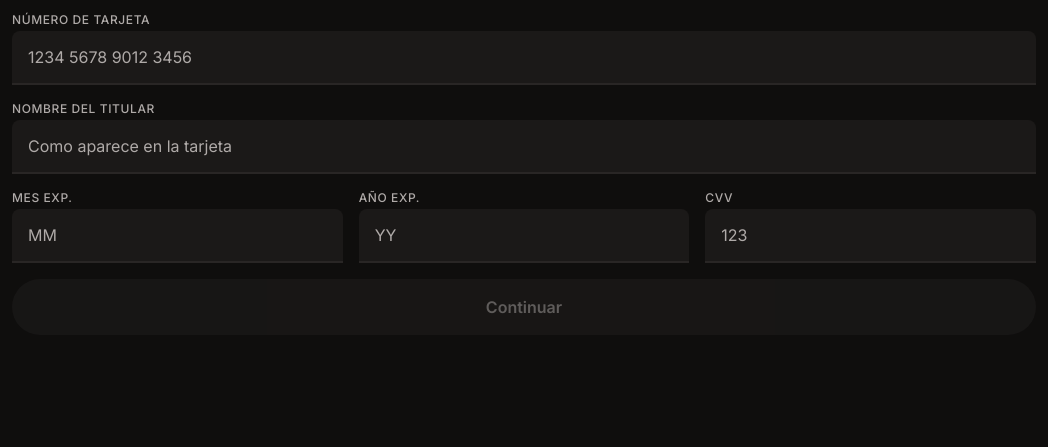
Test: CreditCardForm › shows validation errors with aria-invalid and role=alert
The width and height of the screenshot is (1048, 447).
Type "111" into the field labelled "Número de tarjeta". click: coordinates (524, 57)
box: x1=12 y1=31 x2=1036 y2=83
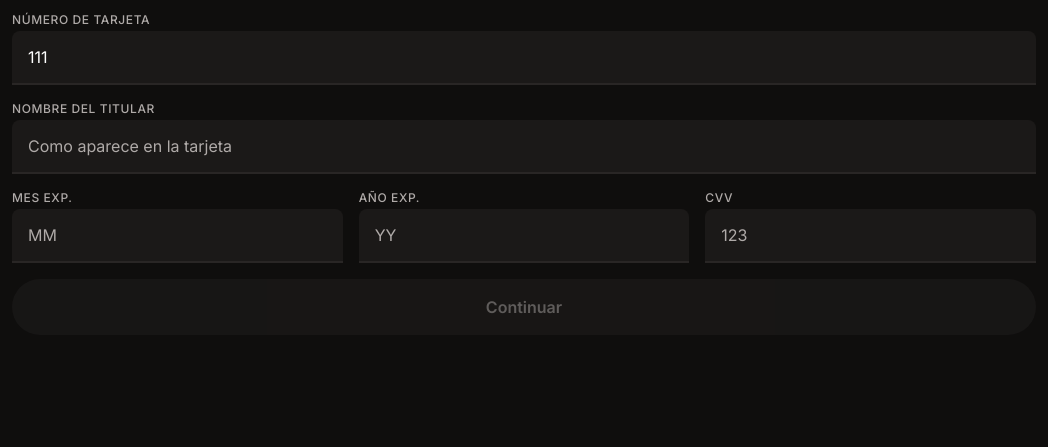
Leave the field labelled "Número de tarjeta", box x1=12 y1=31 x2=1036 y2=83
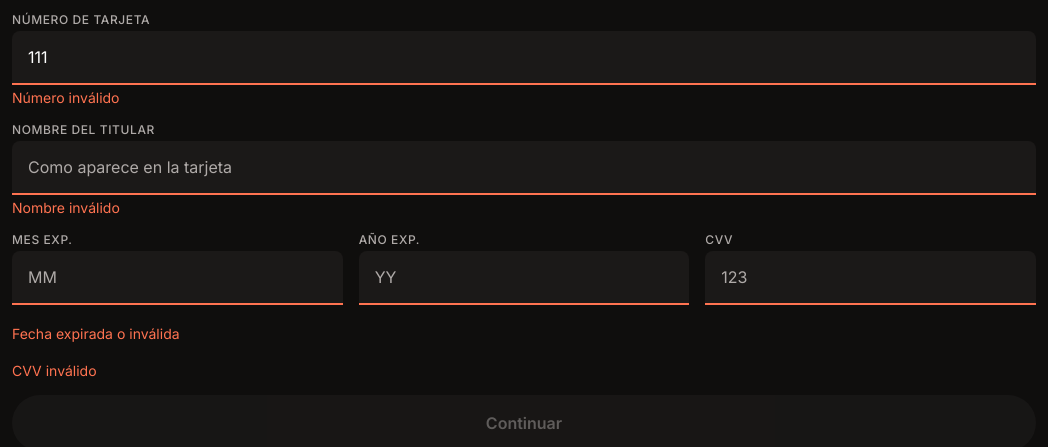
expect the text "Número inválido" is shown: met, box x1=12 y1=89 x2=120 y2=106
